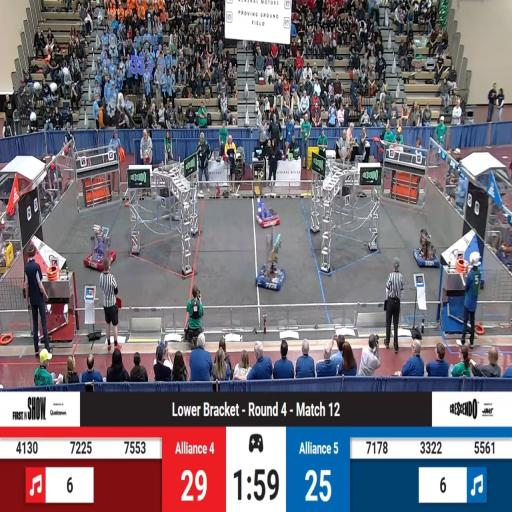robot: (85, 227, 117, 271), (414, 231, 440, 268), (258, 262, 286, 292), (256, 201, 281, 229)
